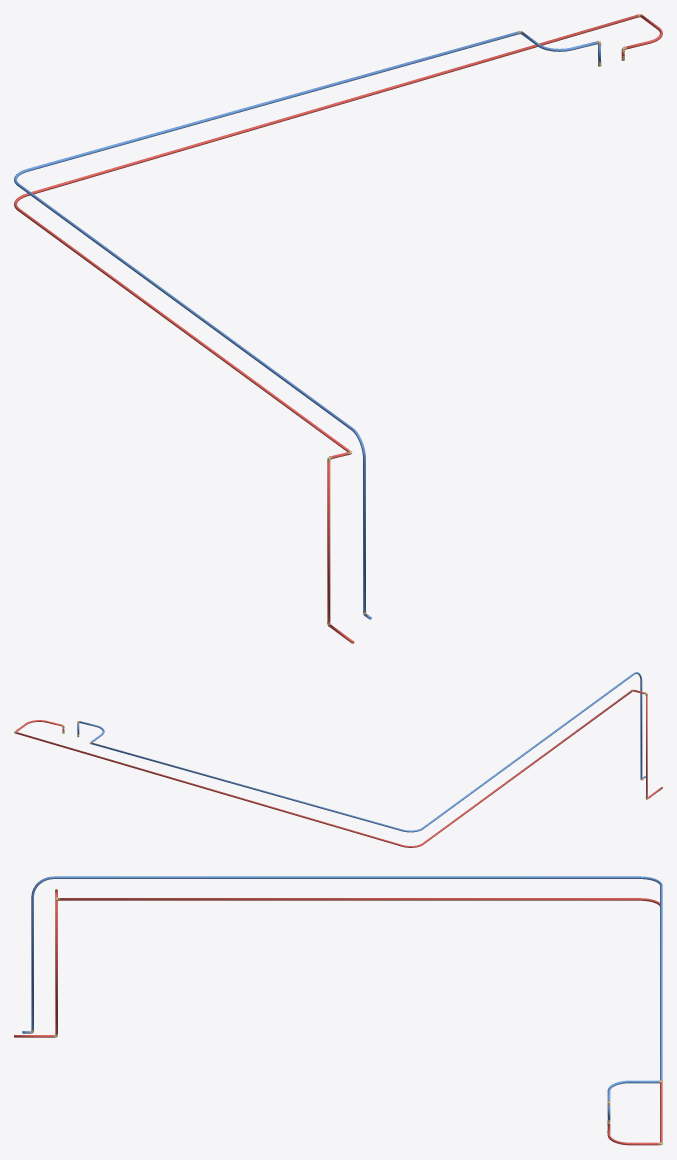
The model's file is slab_pipes_supply__water_heater-garage_hybrid_and_plumbing-pex+attic_repipe.glb.
3 renders of one model, top to bottom at view 1: azimuth 30°, elevation 25°; view 2: azimuth 150°, elevation 25°; view 3: azimuth 270°, elevation 25°, orthographic. The views are drawn at different scales.
Parts seen in each view (by area): view 1: pipe_supply_hot_wh_hybrid__pex, pipe_supply_cold_wh_hybrid__pex; view 2: pipe_supply_hot_wh_hybrid__pex, pipe_supply_cold_wh_hybrid__pex; view 3: pipe_supply_cold_wh_hybrid__pex, pipe_supply_hot_wh_hybrid__pex.
Part boxes in pixels (box(x1,y1,x2,y2)): pipe_supply_hot_wh_hybrid__pex: box(14, 14, 662, 643); pipe_supply_cold_wh_hybrid__pex: box(14, 31, 600, 619); pipe_supply_hot_wh_hybrid__pex: box(15, 690, 662, 847); pipe_supply_cold_wh_hybrid__pex: box(77, 672, 645, 832); pipe_supply_cold_wh_hybrid__pex: box(22, 876, 662, 1121); pipe_supply_hot_wh_hybrid__pex: box(14, 889, 662, 1145).
Size of the model in its own units: 5.59 by 1.73 by 5.43.
